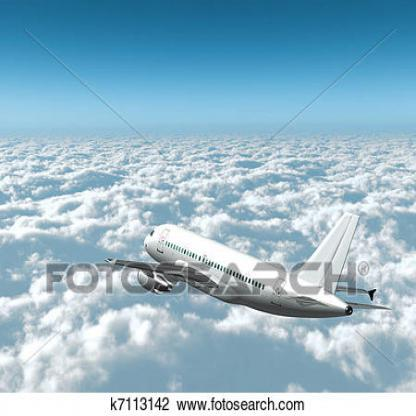CIV_Plane: (102, 210, 394, 332)
